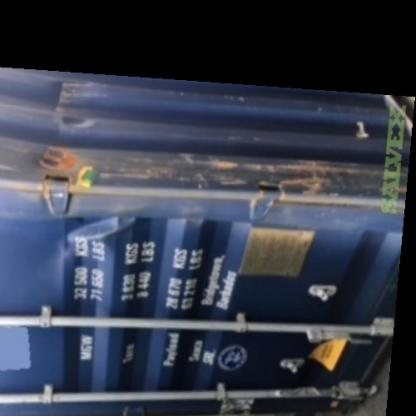Damage: (25, 151, 399, 189), (50, 198, 141, 262), (46, 71, 112, 133)
